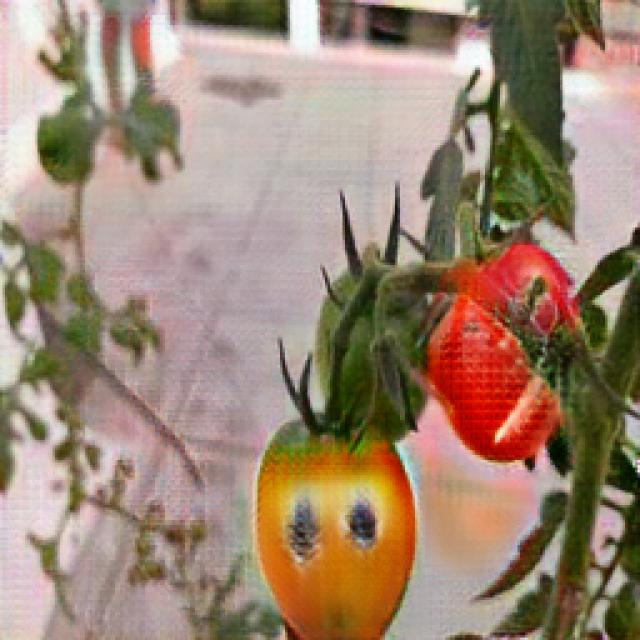overripe tomato: (254, 419, 421, 640)
